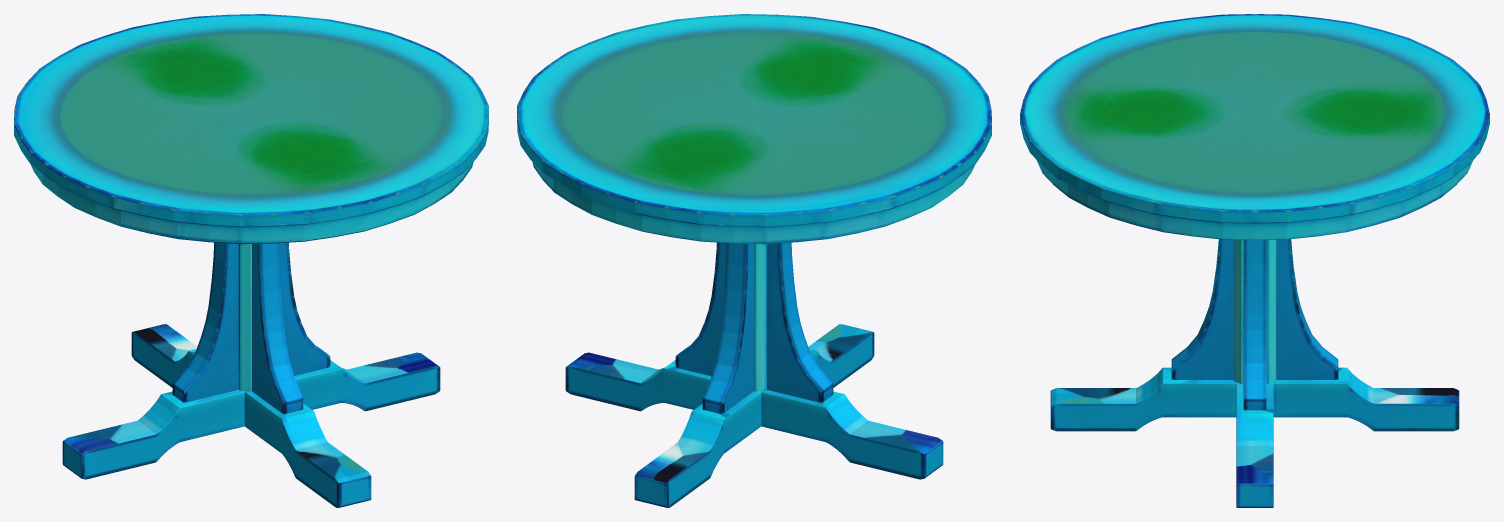
File: edited_mesh.glb
The picture shows the model from 3 angles, left to right: view 1: azimuth 30°, elevation 25°; view 2: azimuth 150°, elevation 25°; view 3: azimuth 270°, elevation 25°; orthographic projection.
Visible parts, largest first — view 1: normalized_model.obj; view 2: normalized_model.obj; view 3: normalized_model.obj.
Part boxes in pixels (left/top/right/bottom): normalized_model.obj: left=14, top=14, right=488, bottom=507; normalized_model.obj: left=517, top=14, right=991, bottom=507; normalized_model.obj: left=1020, top=14, right=1489, bottom=507.
Size of the model in its own units: 1.62 by 1.19 by 1.62.
1 material, 1 textured.
